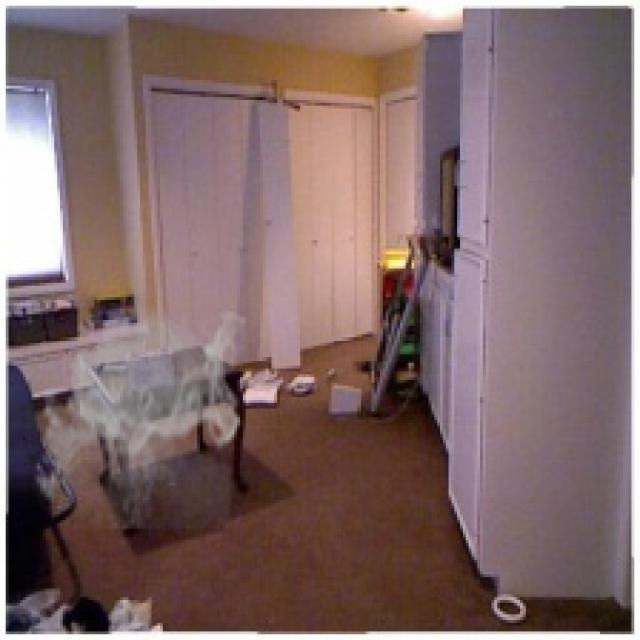smoke: (28, 303, 245, 528)
